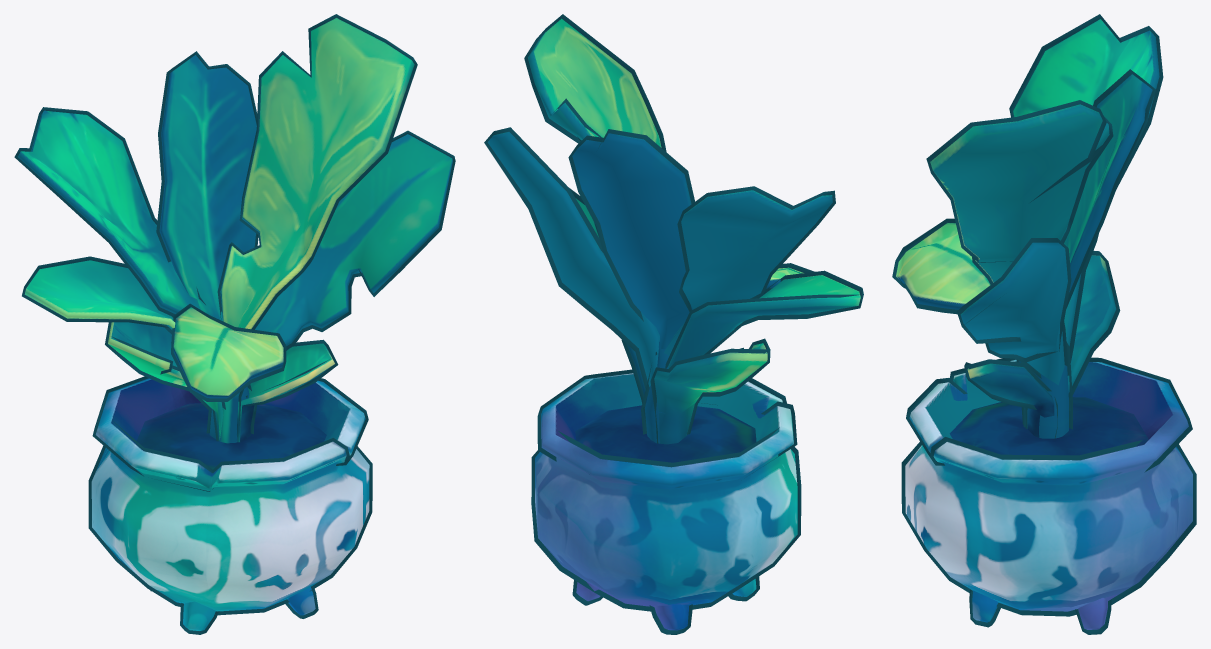
File: banana_plant.glb
3 renders of one model, left to right at view 1: azimuth 30°, elevation 25°; view 2: azimuth 150°, elevation 25°; view 3: azimuth 270°, elevation 25°, orthographic. The views are drawn at different scales.
Parts seen in each view (by area): view 1: Object_2, Object_3; view 2: Object_2, Object_3; view 3: Object_2, Object_3.
Boxes of the visible parts, x1,y1,x2,y2 form: Object_2: (18, 18, 452, 630); Object_3: (14, 14, 455, 634); Object_2: (487, 18, 860, 630); Object_3: (484, 14, 863, 634); Object_2: (896, 19, 1192, 629); Object_3: (892, 14, 1196, 634).
Size of the model in its own units: 3.63 by 4.65 by 2.27.
2 materials, 1 textured.
